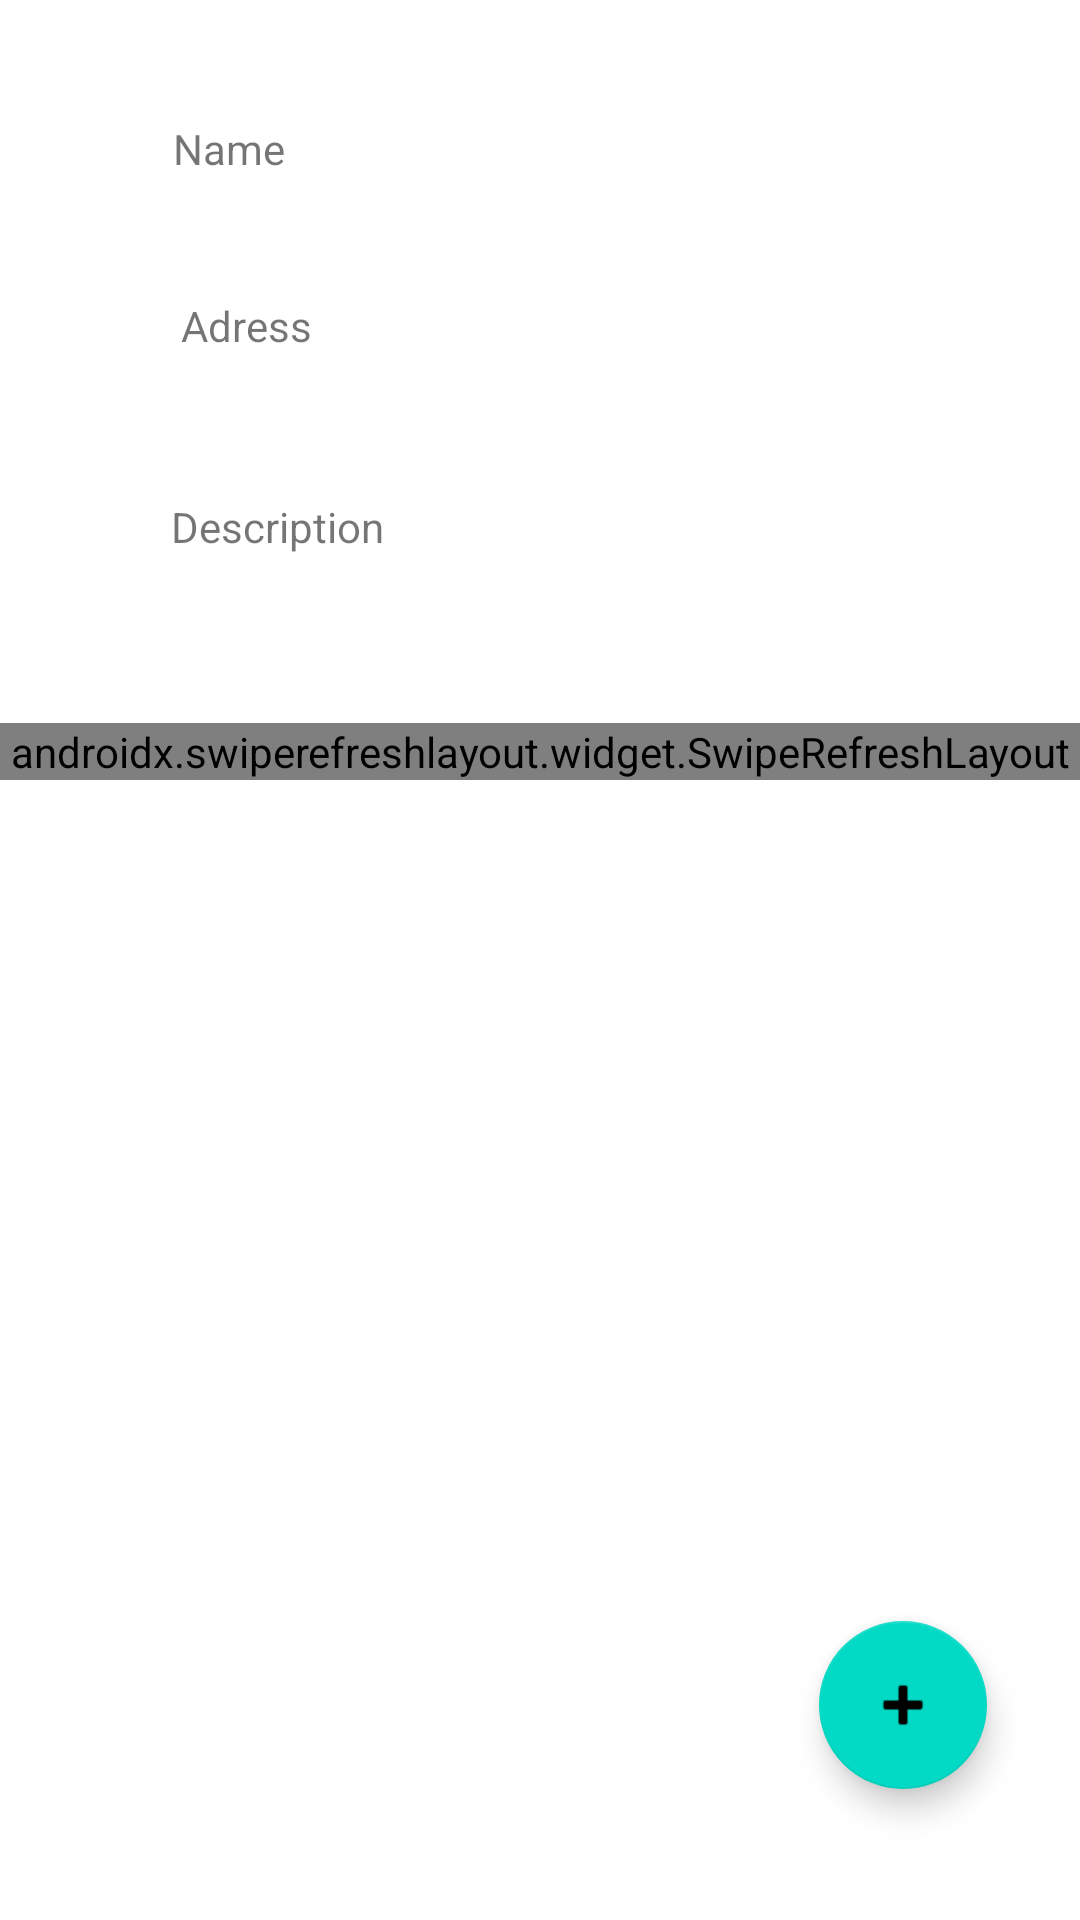

Named icons in this screenshot (1080*1920) and their bounding boxes, (x1, y1, x2, y2):
add: (819, 1621, 987, 1789)
